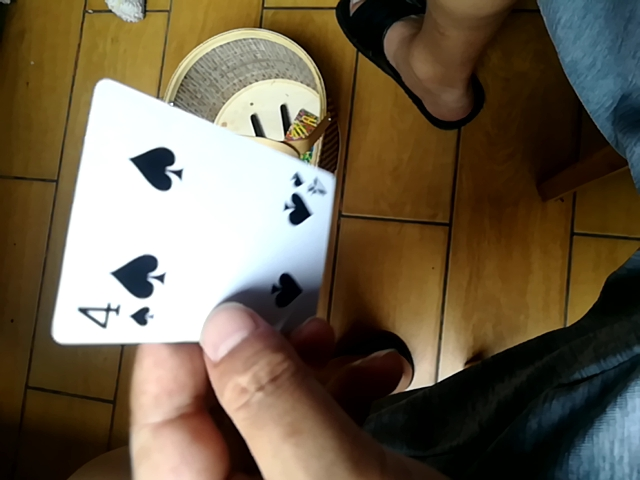ht 4: (52, 78, 340, 355)
